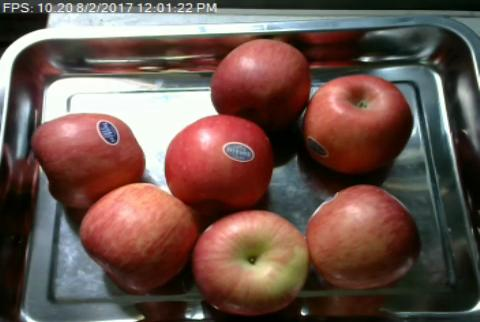apple: (79, 181, 199, 293), (307, 184, 422, 290), (193, 210, 309, 315), (302, 74, 414, 174), (32, 113, 146, 206), (163, 113, 272, 209), (209, 37, 308, 129)
